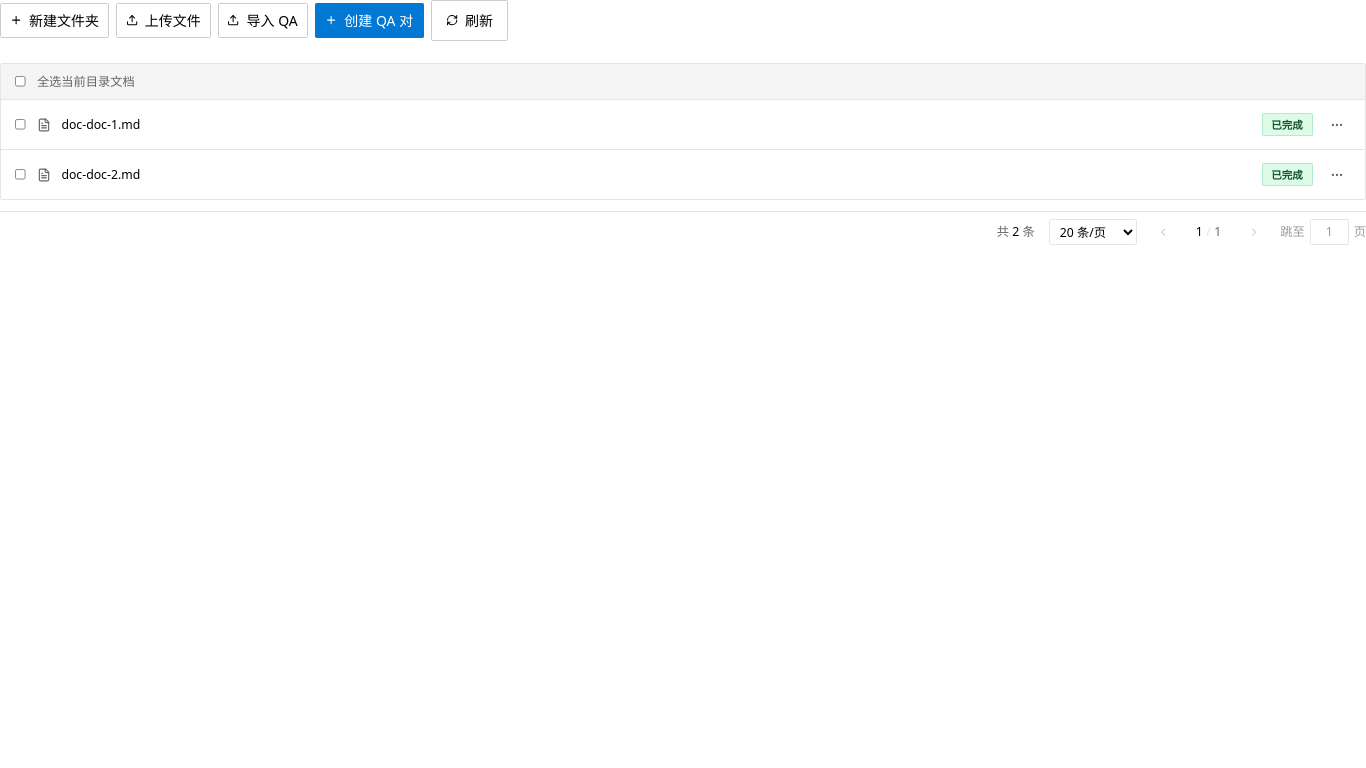
Test case: KbDocumentsTab › summarizes partial batch delete failures after confirmation
Click the 2nd checkbox.
click(21, 125)  # box [15,119,26,130]
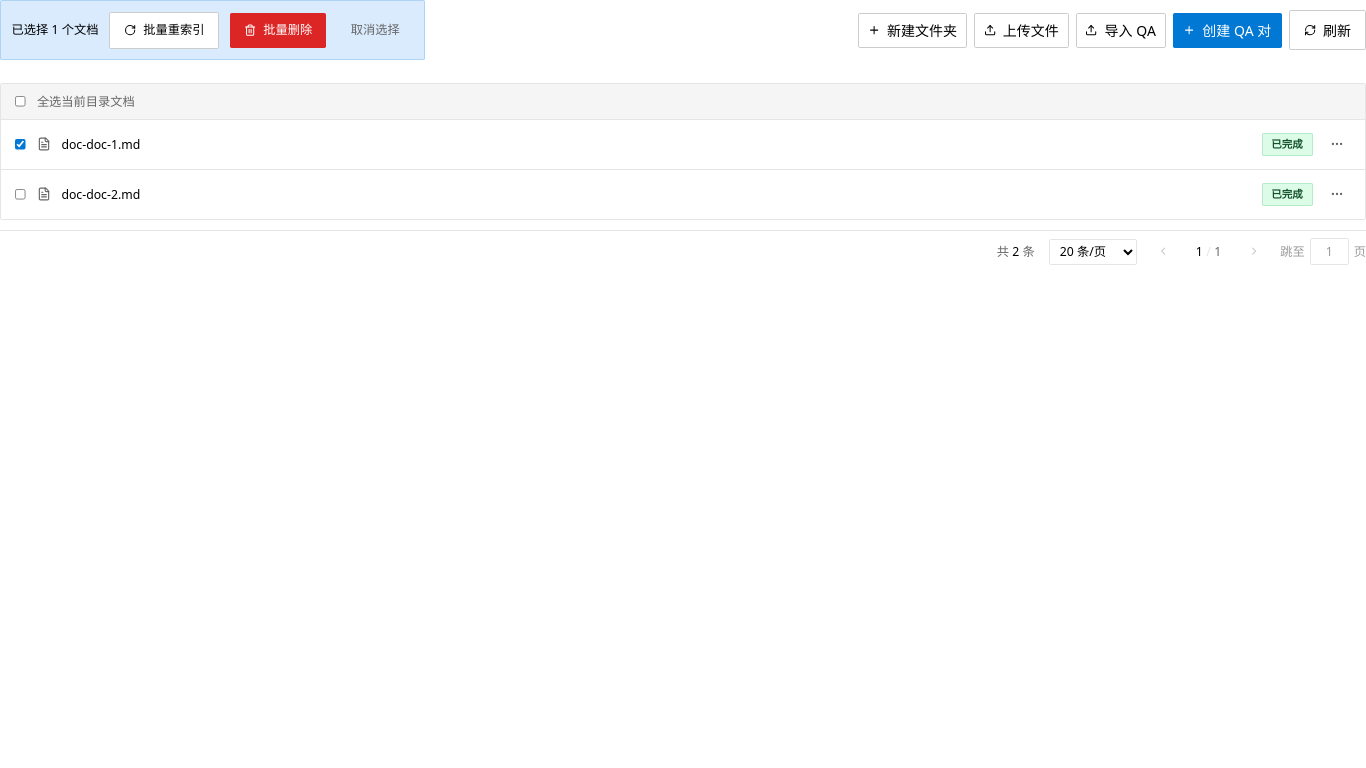
Click the 3rd checkbox.
click(21, 194)  # box [15,189,26,200]
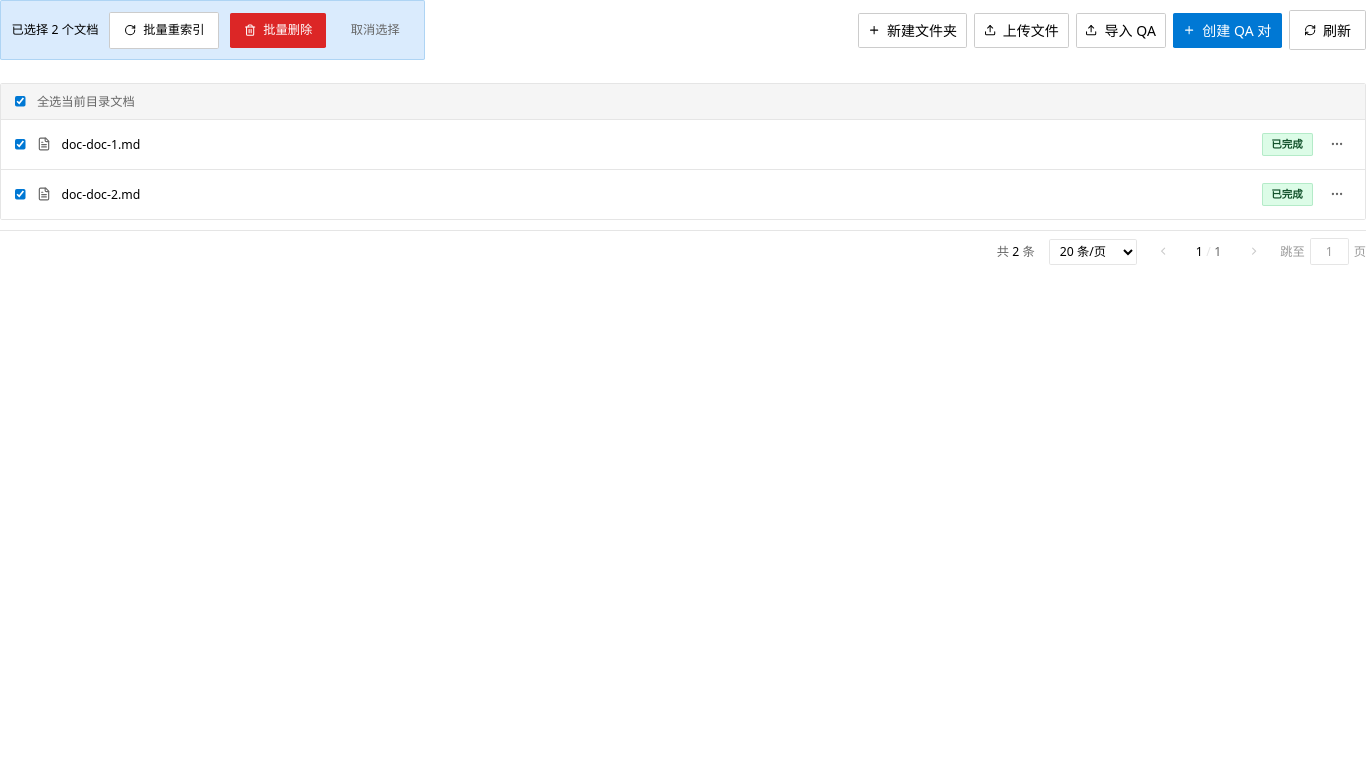
Click the button "批量删除".
click(278, 30)  # box [230,12,326,48]
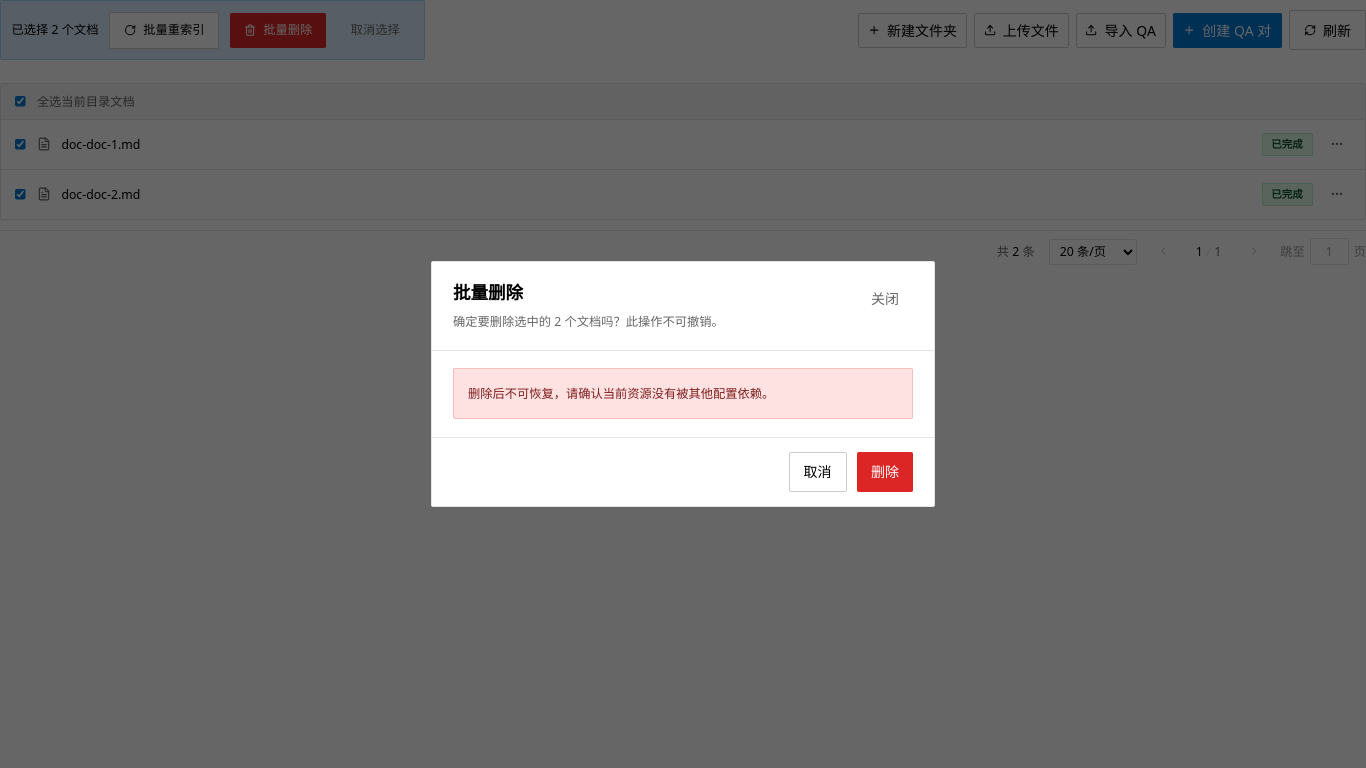
Click the button "删除".
click(885, 472)  # box [857,452,913,492]
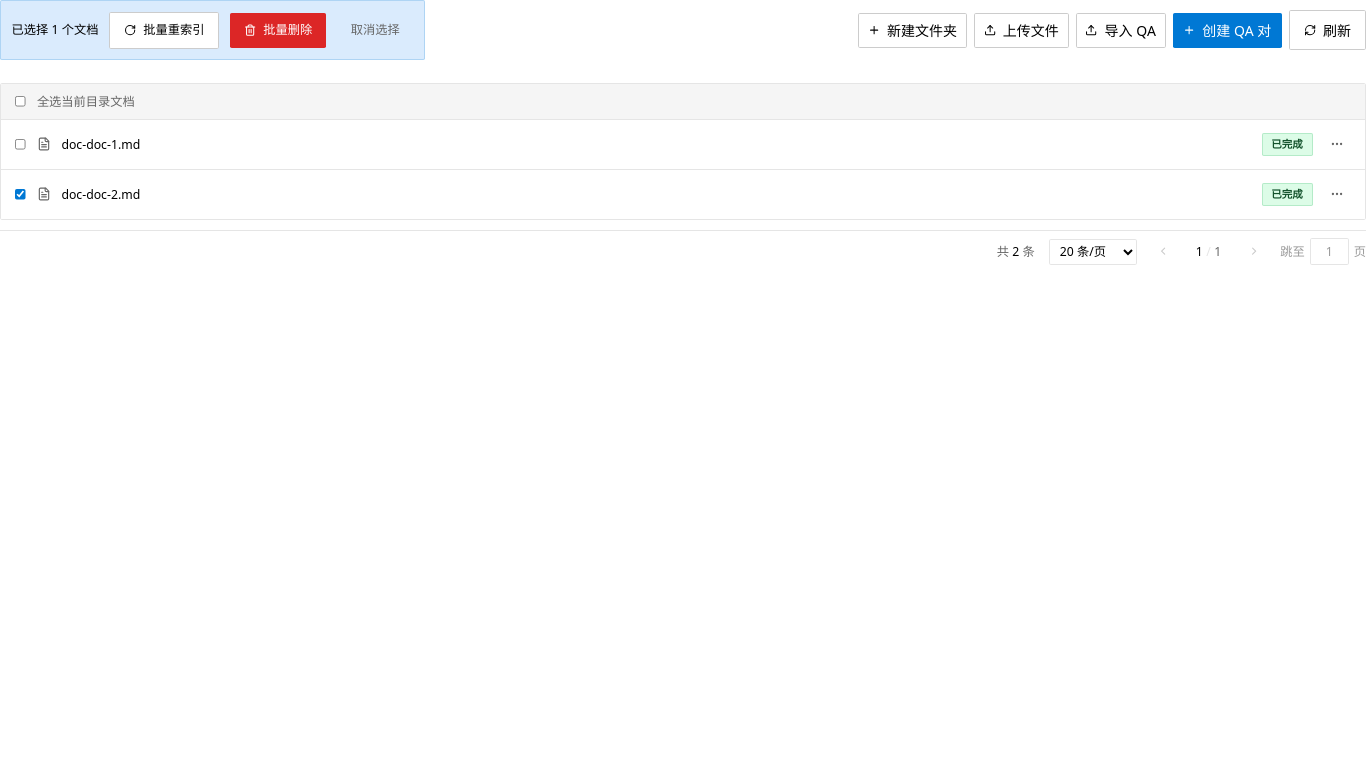
Now the text "已选择 1 个文档" is shown, box [12,21,98,39]
